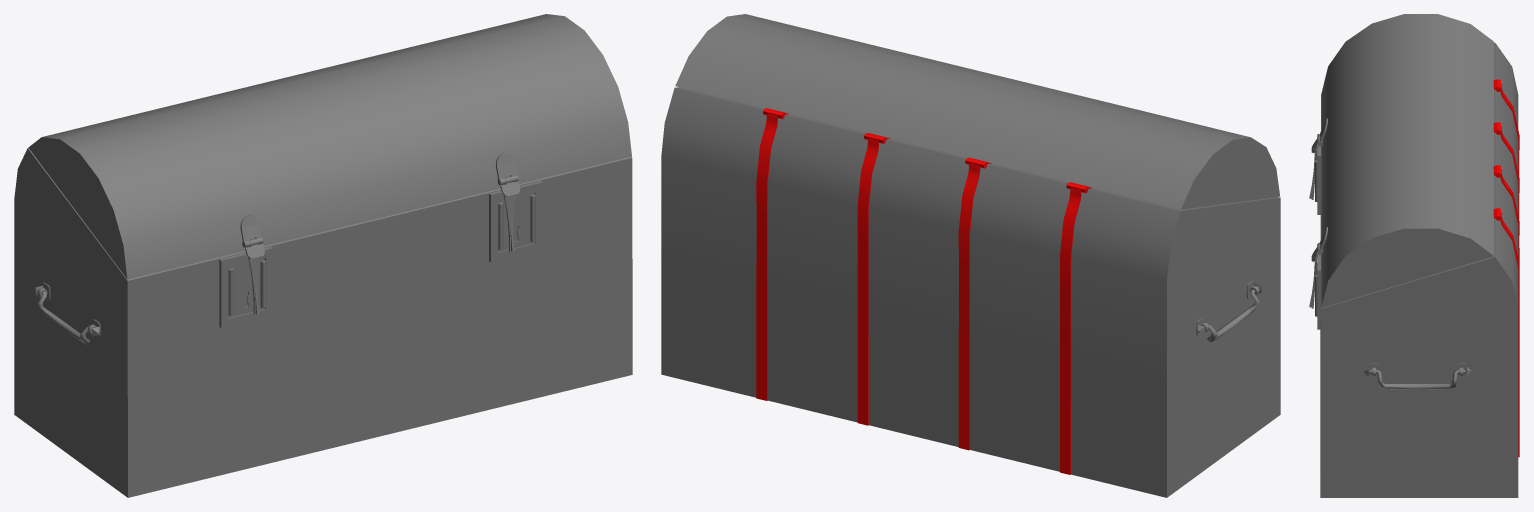
Rendered from LeatherChest.fbx.
3 views of the same model, side by side, from view 1: azimuth 30°, elevation 25°; view 2: azimuth 150°, elevation 25°; view 3: azimuth 270°, elevation 25° (orthographic). The views are drawn at different scales.
Visible parts, largest first — view 1: Object003; view 2: Object003; view 3: Object003.
Part boxes in pixels (left/top/right/bottom): Object003: left=14, top=14, right=632, bottom=497; Object003: left=661, top=14, right=1280, bottom=497; Object003: left=1309, top=14, right=1519, bottom=497.
Size of the model in its own units: 172 by 95.77 by 67.74.
